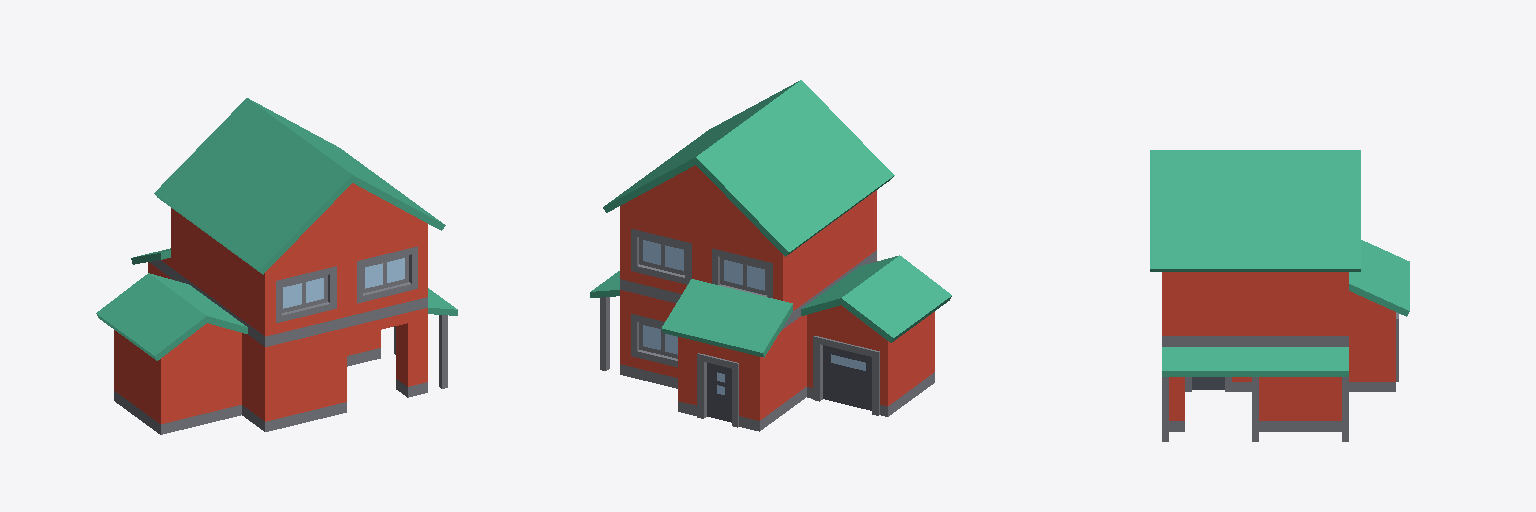
Rendered from house_type17.obj.
3 renders of one model, left to right at view 1: azimuth 30°, elevation 25°; view 2: azimuth 150°, elevation 25°; view 3: azimuth 270°, elevation 25°, orthographic.
Parts seen in each view (by area): view 1: house_type17; view 2: house_type17; view 3: house_type17.
Boxes of the visible parts, <box> form: house_type17: <box>96,98,457,434</box>; house_type17: <box>590,80,951,431</box>; house_type17: <box>1150,150,1409,441</box>.
Size of the model in its own units: 1.41 by 1.14 by 1.11.